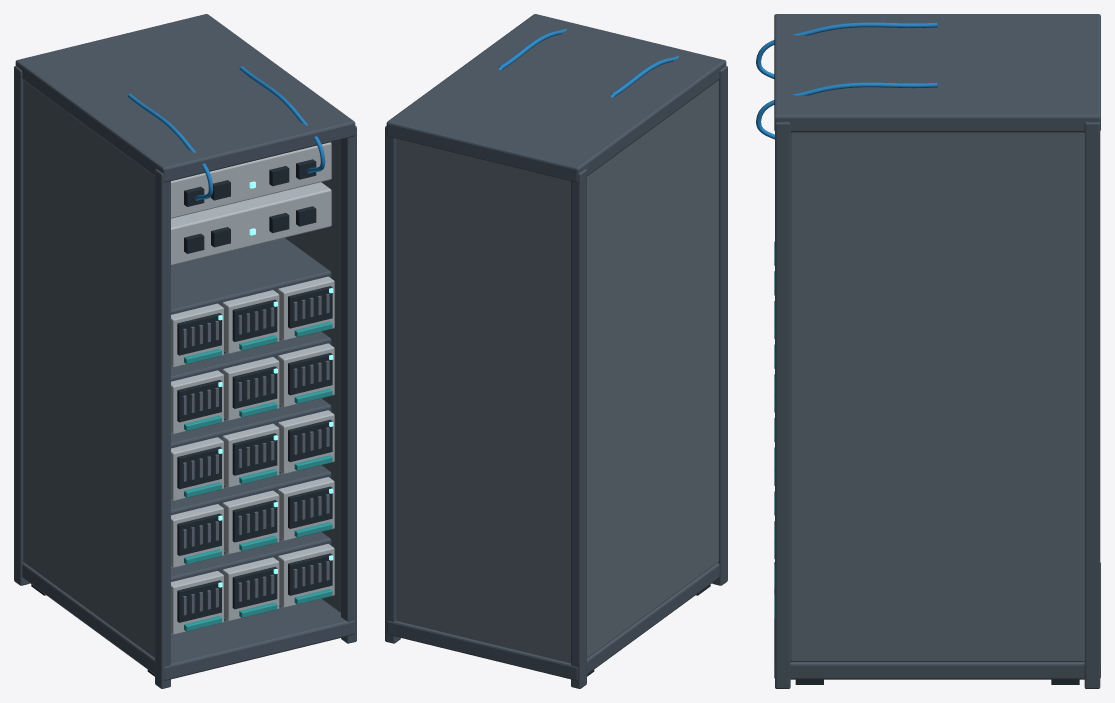
The model's file is storage-rack.glb.
3 views of the same model, side by side, from view 1: azimuth 30°, elevation 25°; view 2: azimuth 150°, elevation 25°; view 3: azimuth 270°, elevation 25° (orthographic). The views are drawn at different scales.
Visible parts, largest first — view 1: enclosure_Cabinet_panels.001, rack_frame_Graphite_steel.001, part_shelf_05, part_shelf_01, part_shelf_02, part_shelf_03, part_shelf_04, part_controller_02, part_controller_01; view 2: enclosure_Cabinet_panels.001, rack_frame_Graphite_steel.001, part_controller_01; view 3: enclosure_Cabinet_panels.001, rack_frame_Graphite_steel.001, part_controller_01.
Part boxes in pixels (bbox=[...]): enclosure_Cabinet_panels.001: bbox=[23, 80, 340, 658]; rack_frame_Graphite_steel.001: bbox=[14, 14, 356, 688]; part_shelf_05: bbox=[171, 238, 334, 367]; part_shelf_01: bbox=[171, 532, 334, 634]; part_shelf_02: bbox=[171, 465, 334, 567]; part_shelf_03: bbox=[171, 398, 334, 500]; part_shelf_04: bbox=[171, 331, 334, 434]; part_controller_02: bbox=[171, 182, 331, 265]; part_controller_01: bbox=[127, 66, 331, 218]; enclosure_Cabinet_panels.001: bbox=[396, 80, 718, 663]; rack_frame_Graphite_steel.001: bbox=[385, 14, 727, 688]; part_controller_01: bbox=[498, 28, 678, 97]; enclosure_Cabinet_panels.001: bbox=[790, 132, 1084, 661]; rack_frame_Graphite_steel.001: bbox=[774, 14, 1100, 688]; part_controller_01: bbox=[756, 22, 937, 139].
Size of the model in its own units: 0.875 by 2.27 by 1.21.
